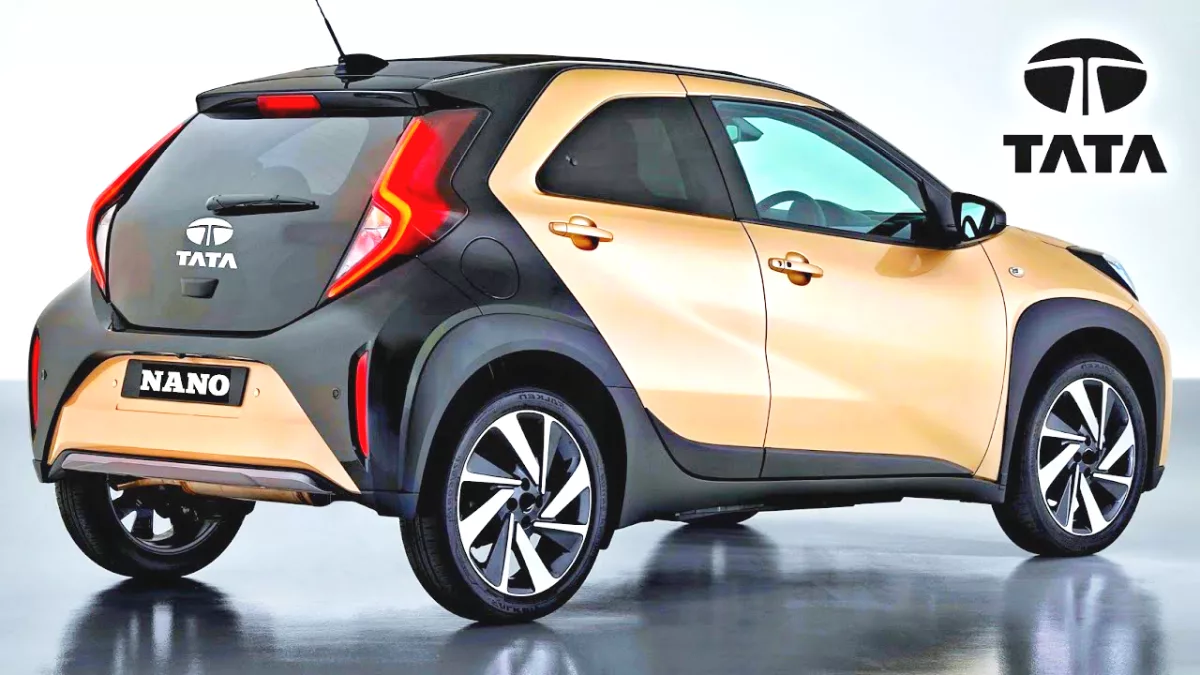Nano: (21, 52, 1166, 626)
